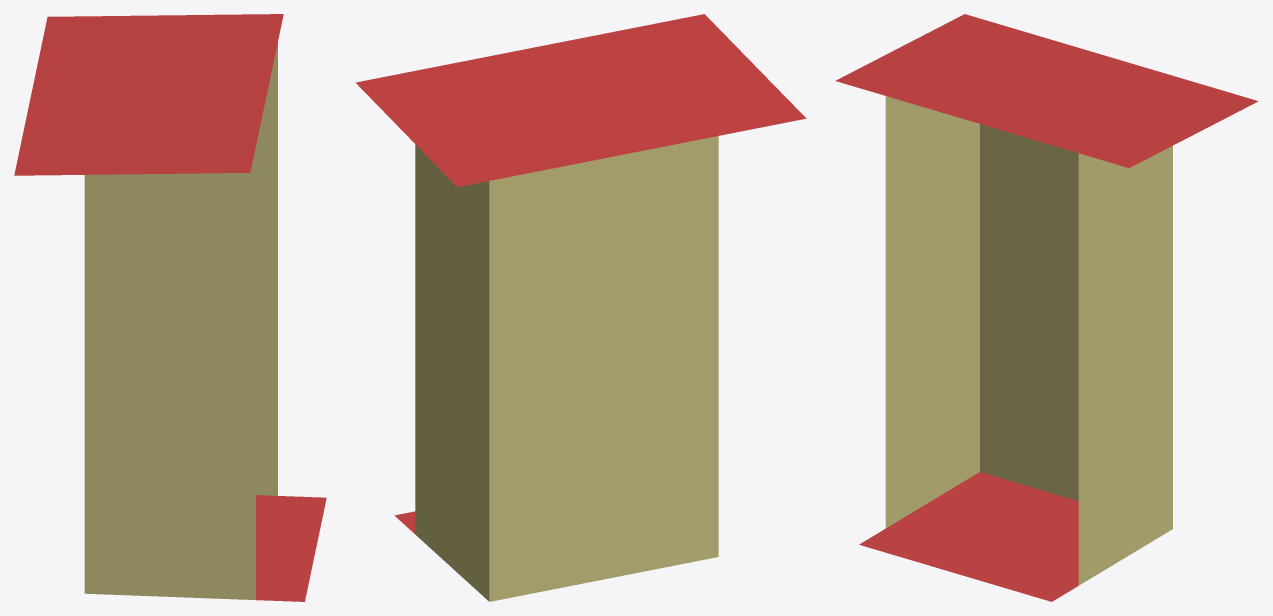
3 views of the same model, side by side, from view 1: azimuth 30°, elevation 25°; view 2: azimuth 150°, elevation 25°; view 3: azimuth 270°, elevation 25° (orthographic). The views are drawn at different scales.
Size of the model in its own units: 4.78 by 5.15 by 5.8.
